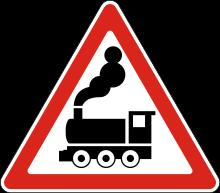Barrier Ahead: (15, 10, 205, 185)
